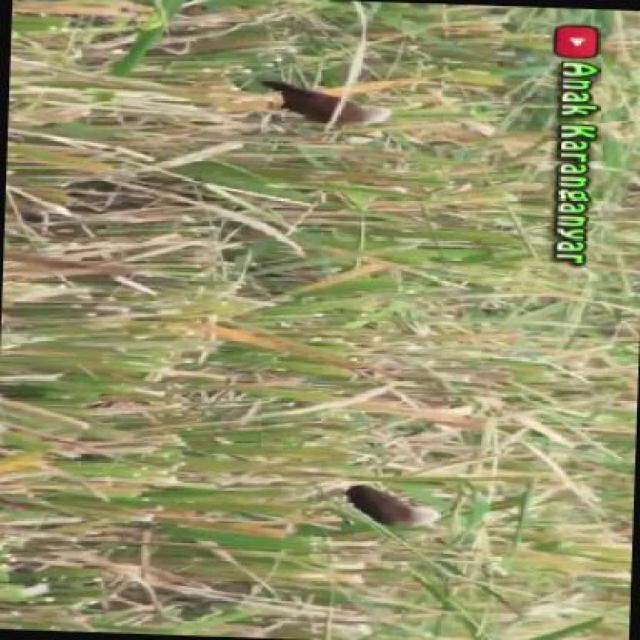Bird: (267, 69, 406, 143), (331, 474, 439, 537)
